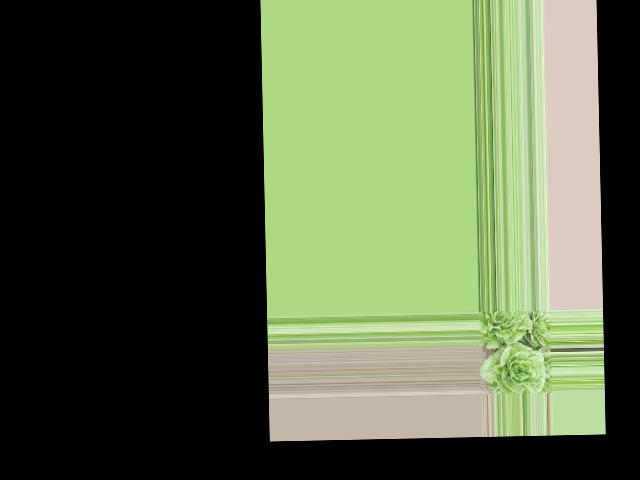lettuce: (479, 309, 532, 344)
